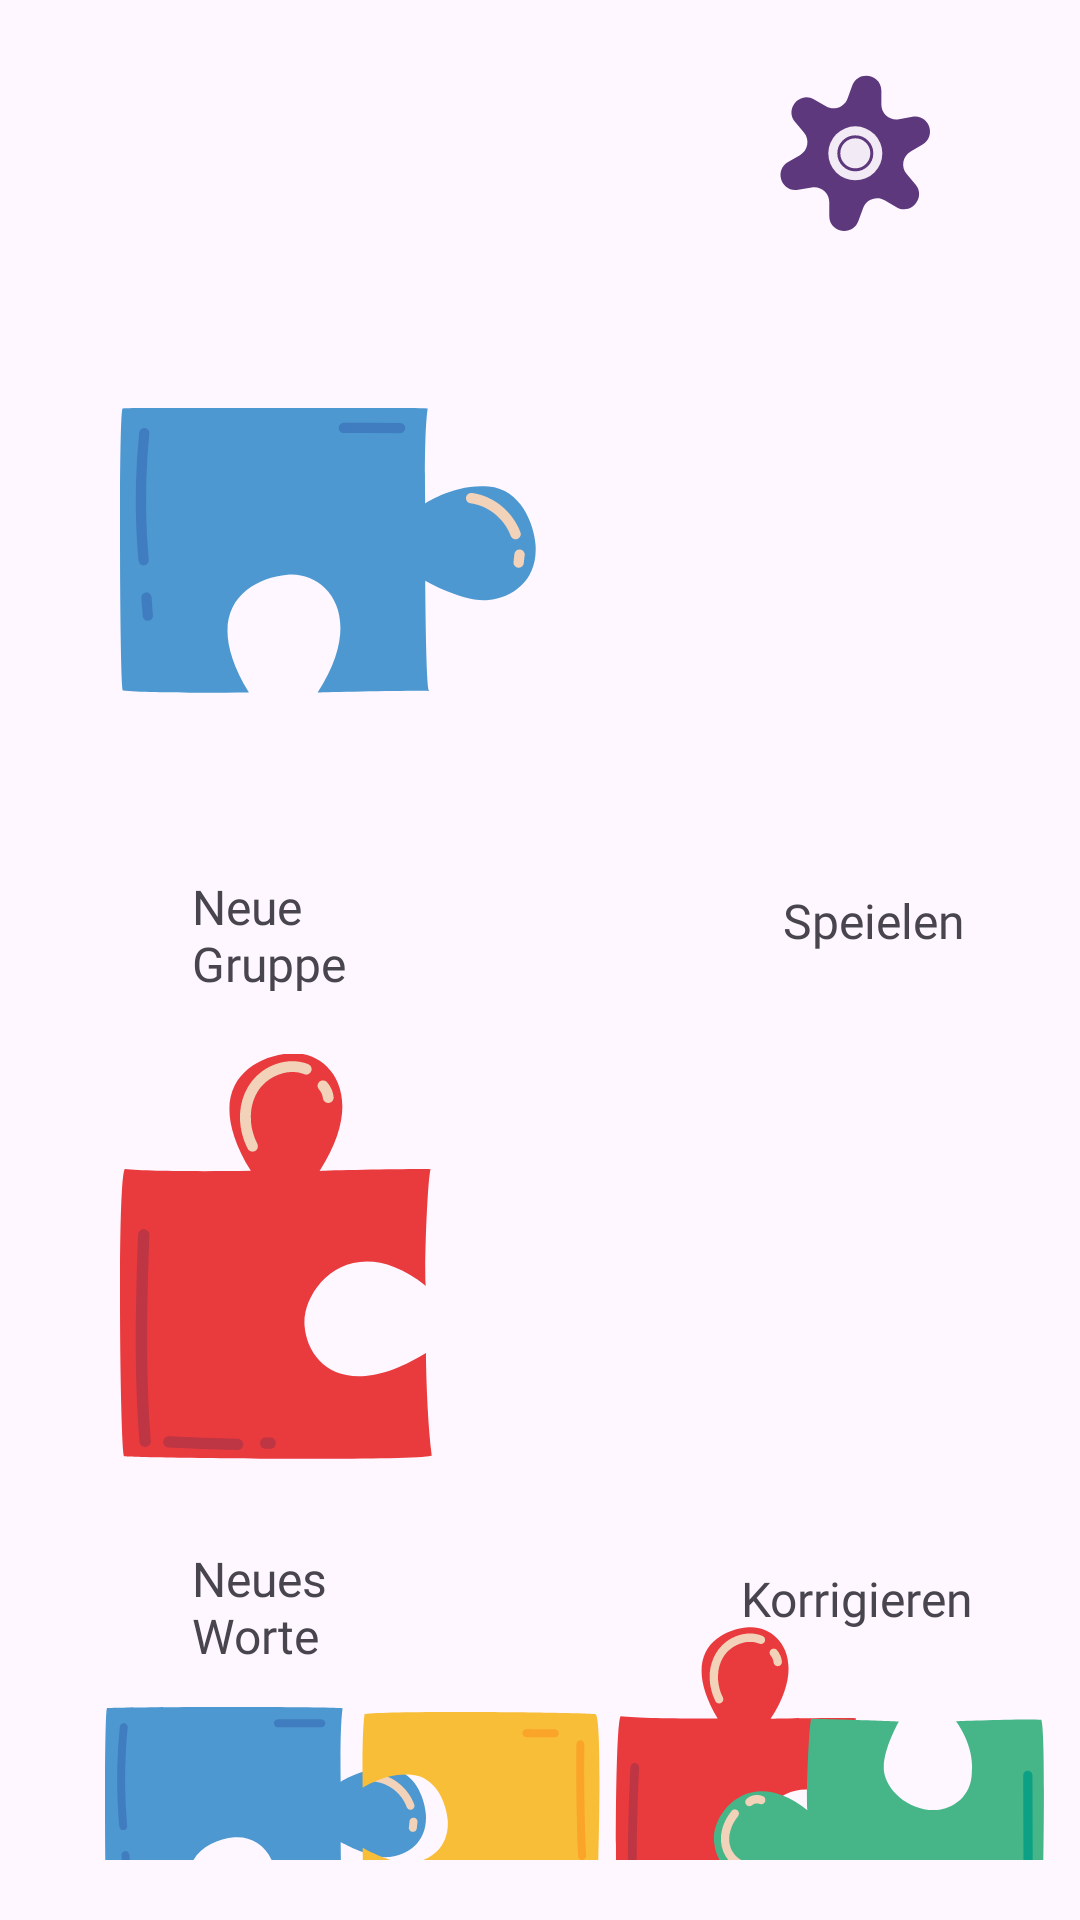

Where to tap for icons on this 1080×1920 app screen, as point (x, y):
group setting: point (855, 153)
